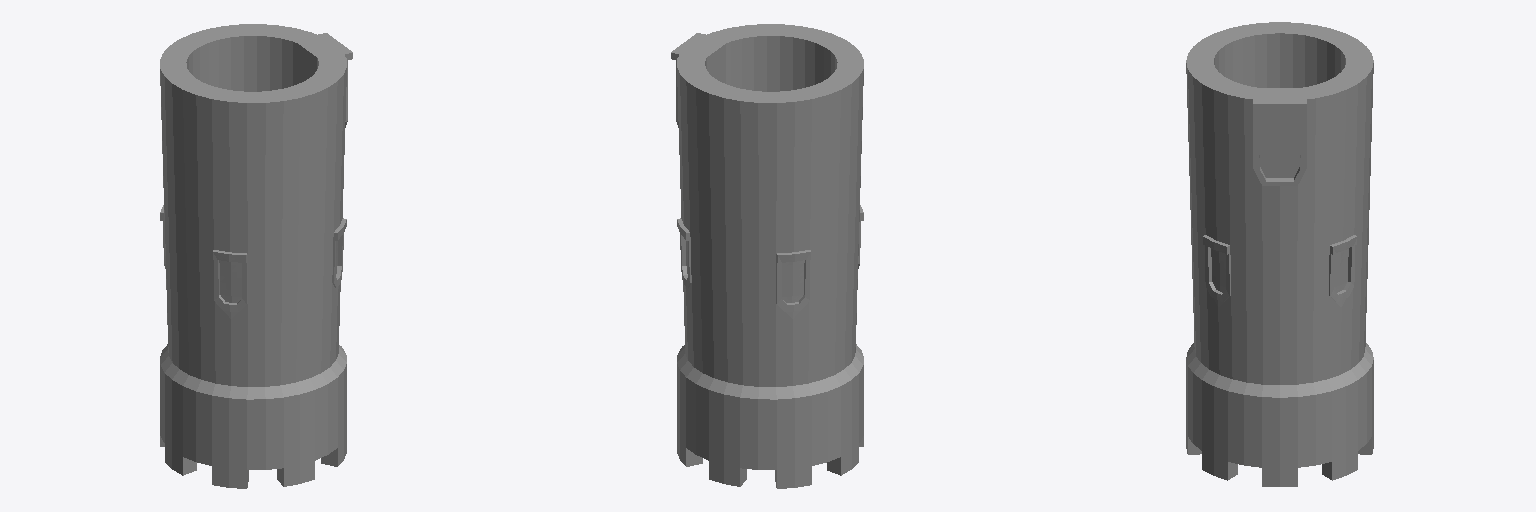
The model's file is tower.obj.
3 views of the same model, side by side, from view 1: azimuth 30°, elevation 25°; view 2: azimuth 150°, elevation 25°; view 3: azimuth 270°, elevation 25° (orthographic).
Parts seen in each view (by area): view 1: tower.001_Cylinder.014; view 2: tower.001_Cylinder.014; view 3: tower.001_Cylinder.014.
Boxes of the visible parts, box(x1,y1,x2,y2) form: tower.001_Cylinder.014: box(160, 24, 352, 488); tower.001_Cylinder.014: box(671, 24, 863, 488); tower.001_Cylinder.014: box(1186, 22, 1373, 486).
Bounding box in the file's own units: 44.14 × 97.11 × 42.8.